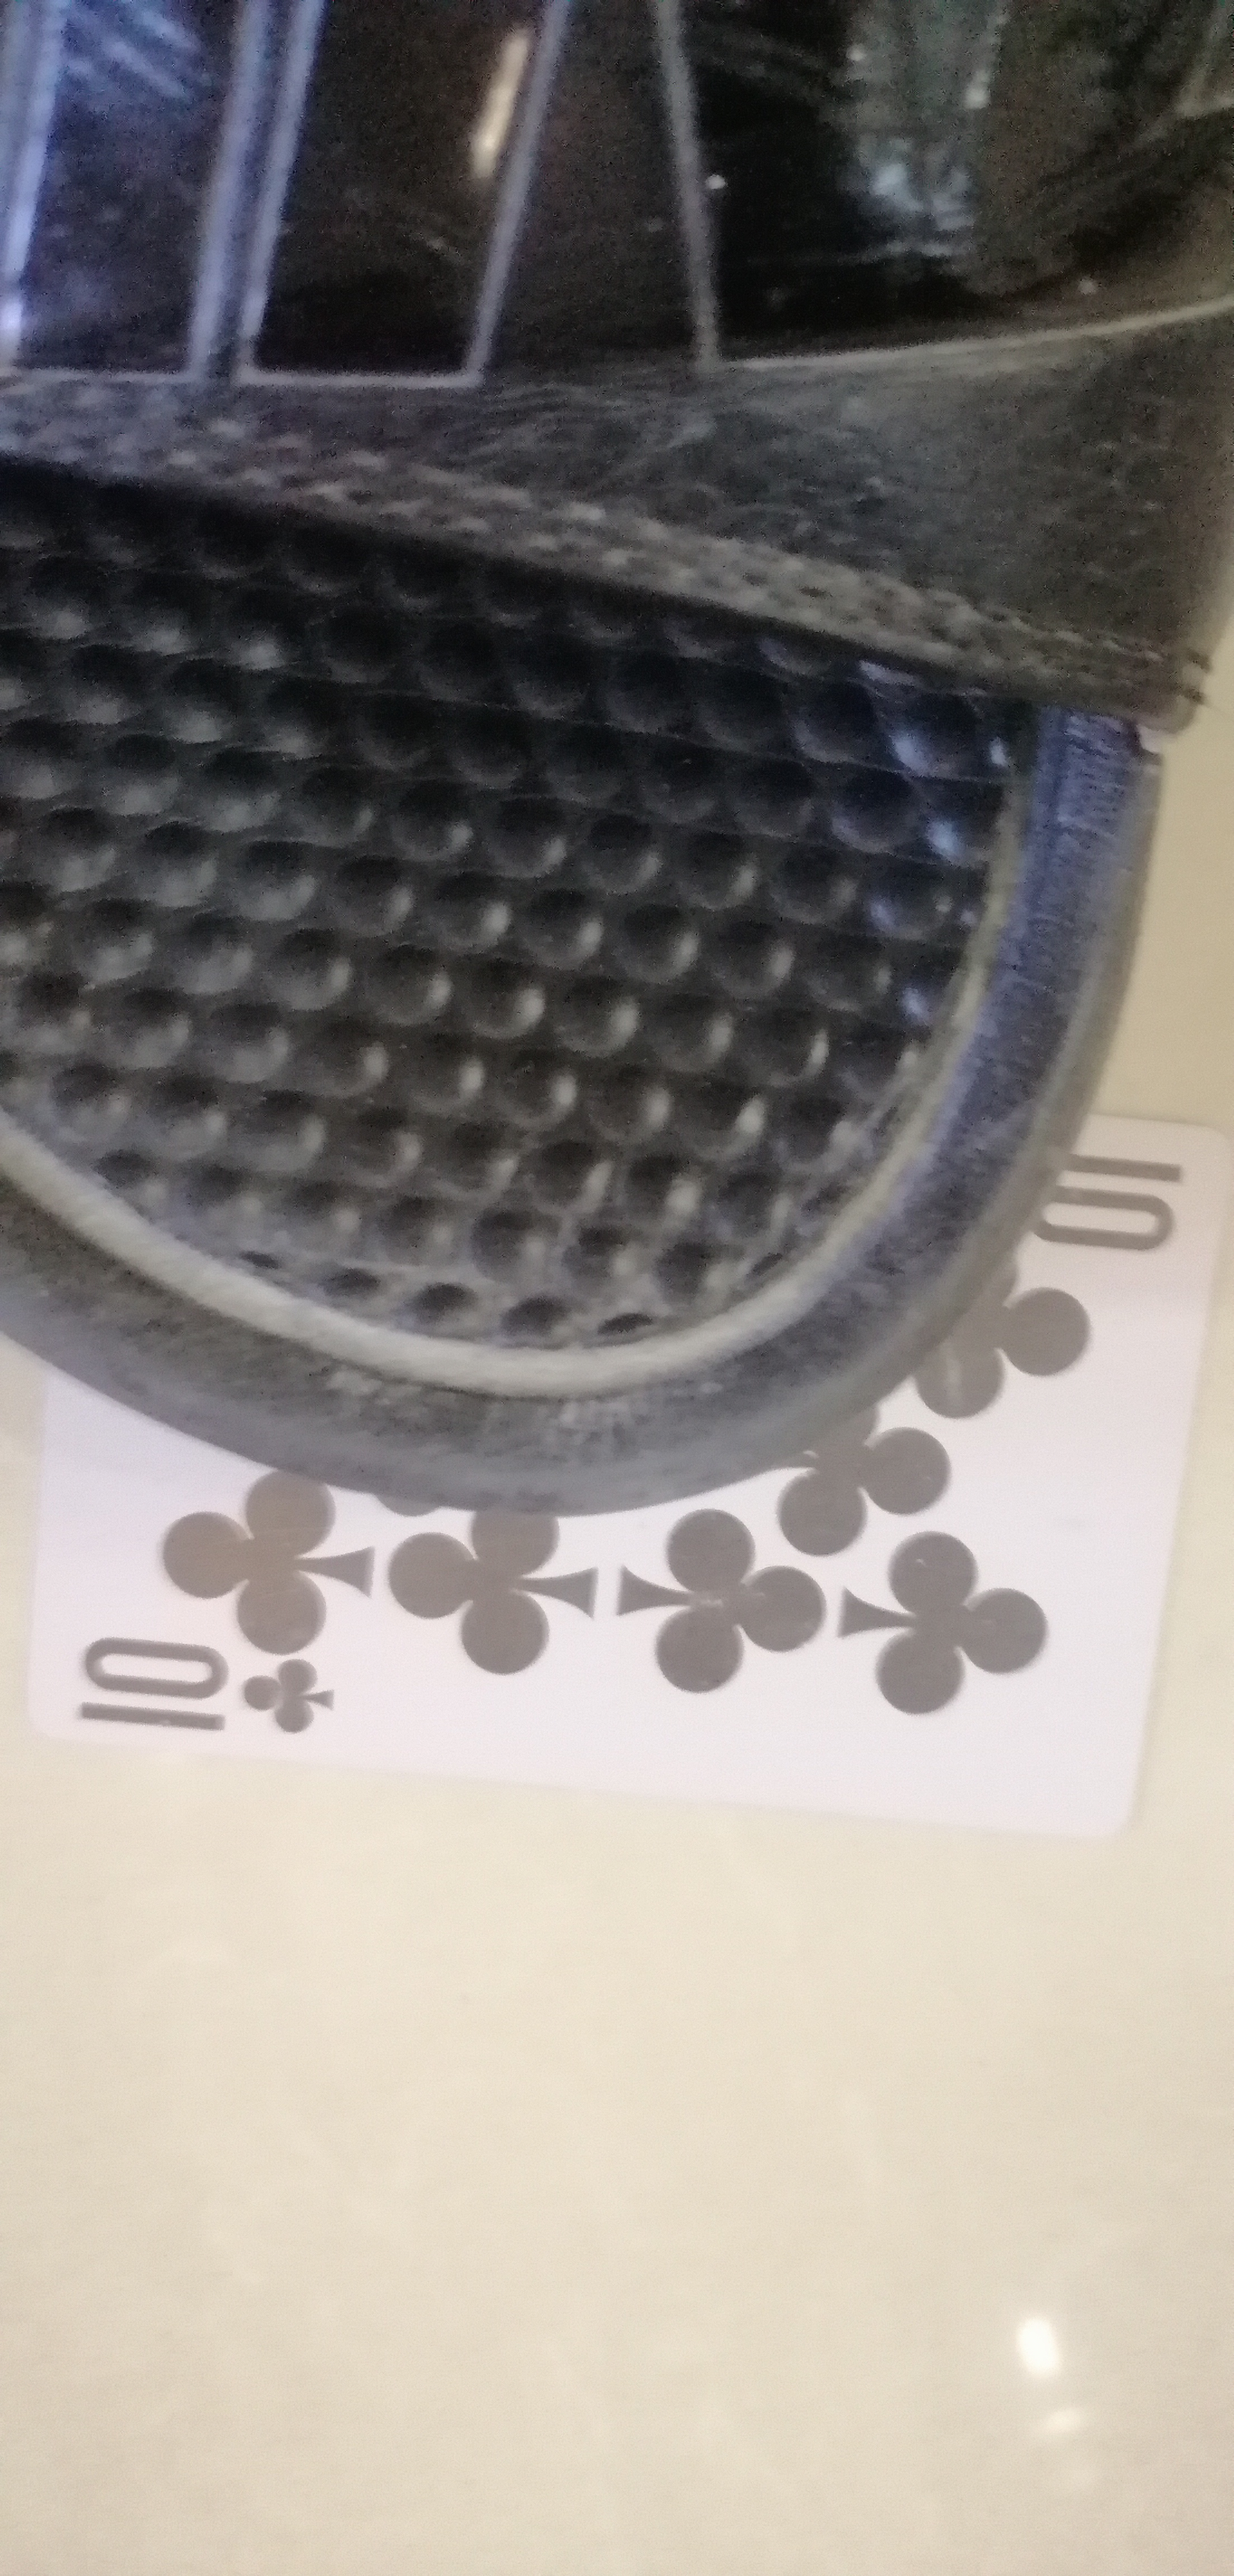ten: (21, 1122, 1213, 1827)
